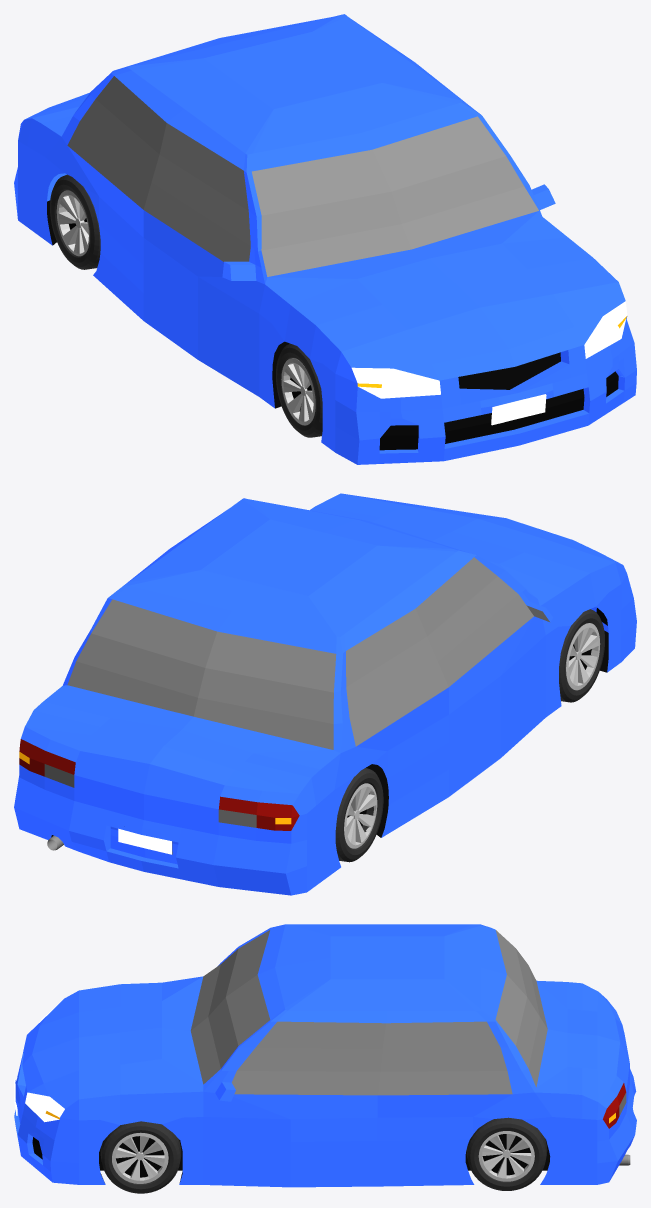
Rendered from car.fbx.
3 renders of one model, top to bottom at view 1: azimuth 30°, elevation 25°; view 2: azimuth 150°, elevation 25°; view 3: azimuth 270°, elevation 25°, orthographic. The views are drawn at different scales.
Parts seen in each view (by area): view 1: Cube; view 2: Cube; view 3: Cube.
Boxes of the visible parts, bbox=[...] form: Cube: bbox=[14, 14, 636, 464]; Cube: bbox=[14, 493, 636, 895]; Cube: bbox=[14, 924, 636, 1193].
Size of the model in its own units: 339 by 217 by 678.
